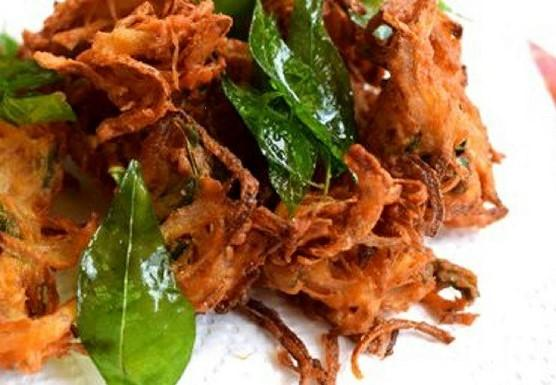OnionPakoda: (0, 0, 512, 385)
